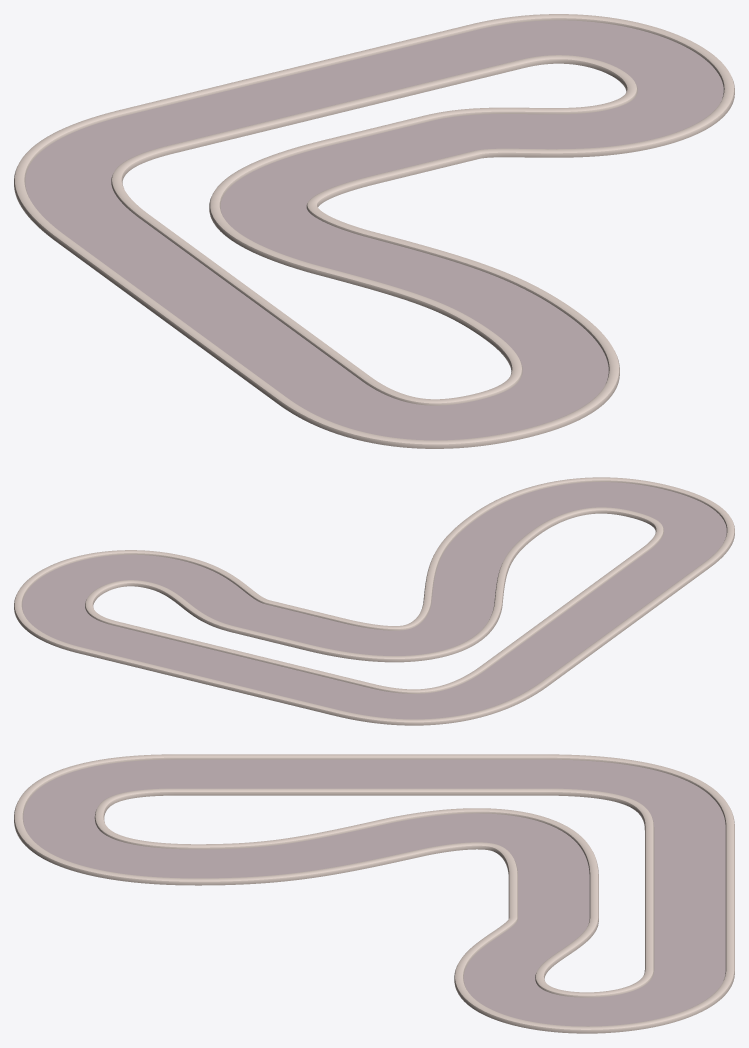
Rendered from track.glb.
3 views of the same model, one above another, from view 1: azimuth 30°, elevation 25°; view 2: azimuth 150°, elevation 25°; view 3: azimuth 270°, elevation 25° (orthographic). The views are drawn at different scales.
Visible parts, largest first — view 1: NW92 continuous curved grass track NW92_road, NW92 continuous curved grass track NW92_curb; view 2: NW92 continuous curved grass track NW92_road, NW92 continuous curved grass track NW92_curb; view 3: NW92 continuous curved grass track NW92_road, NW92 continuous curved grass track NW92_curb.
Part boxes in pixels (x1,y1,x2,y2): NW92 continuous curved grass track NW92_road: [25, 20, 723, 440]; NW92 continuous curved grass track NW92_curb: [14, 14, 734, 448]; NW92 continuous curved grass track NW92_road: [22, 482, 726, 719]; NW92 continuous curved grass track NW92_curb: [14, 477, 734, 725]; NW92 continuous curved grass track NW92_road: [23, 759, 725, 1026]; NW92 continuous curved grass track NW92_curb: [14, 754, 734, 1033].
Size of the model in its own units: 47.53 by 0.34 by 52.46.
